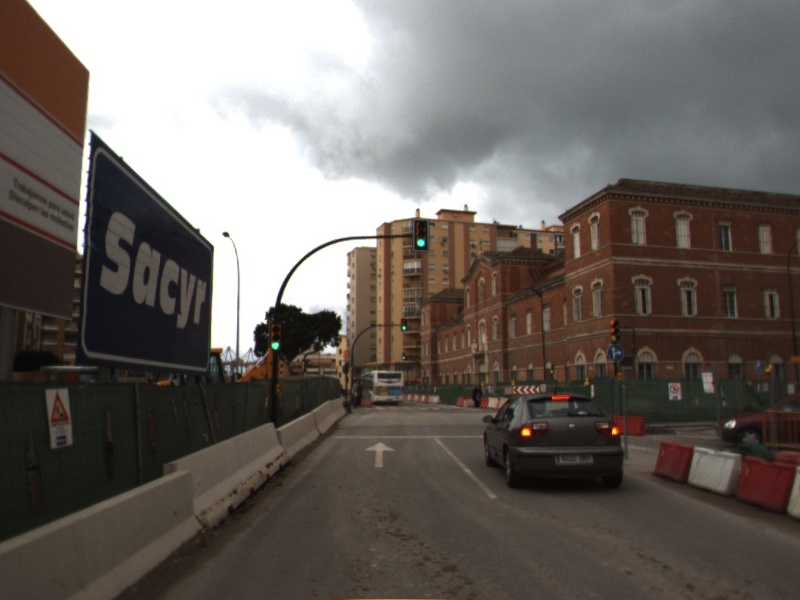STRAIGHT: (363, 440, 397, 469)
